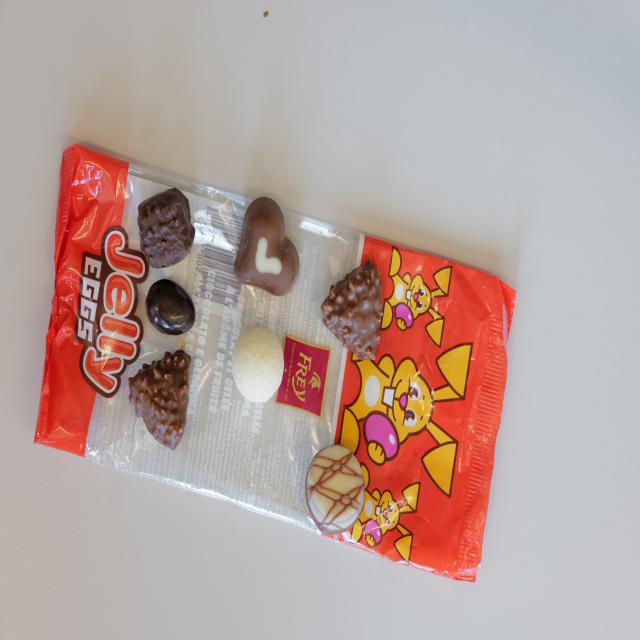Comtesse: (230, 322, 285, 403)
Creme_brulee: (305, 445, 365, 535)
Jelly_Black: (145, 279, 196, 336)
Passion_au_lait: (234, 196, 299, 296)
Tentation_noir: (136, 186, 196, 268)
Triangolo: (128, 349, 192, 453), (321, 258, 384, 360)
